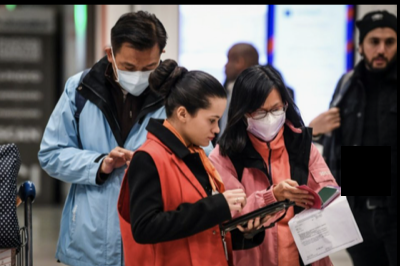with_mask: (245, 99, 287, 143), (114, 58, 157, 100)
without_mask: (188, 110, 225, 148), (360, 34, 397, 70)
